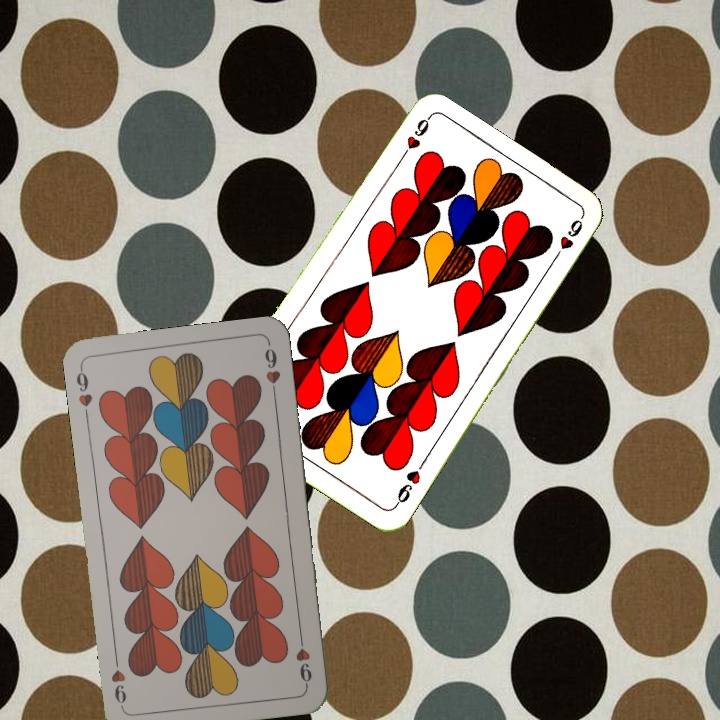H9: (393, 114, 432, 167), (390, 457, 428, 510), (291, 629, 315, 688), (72, 363, 95, 422)
